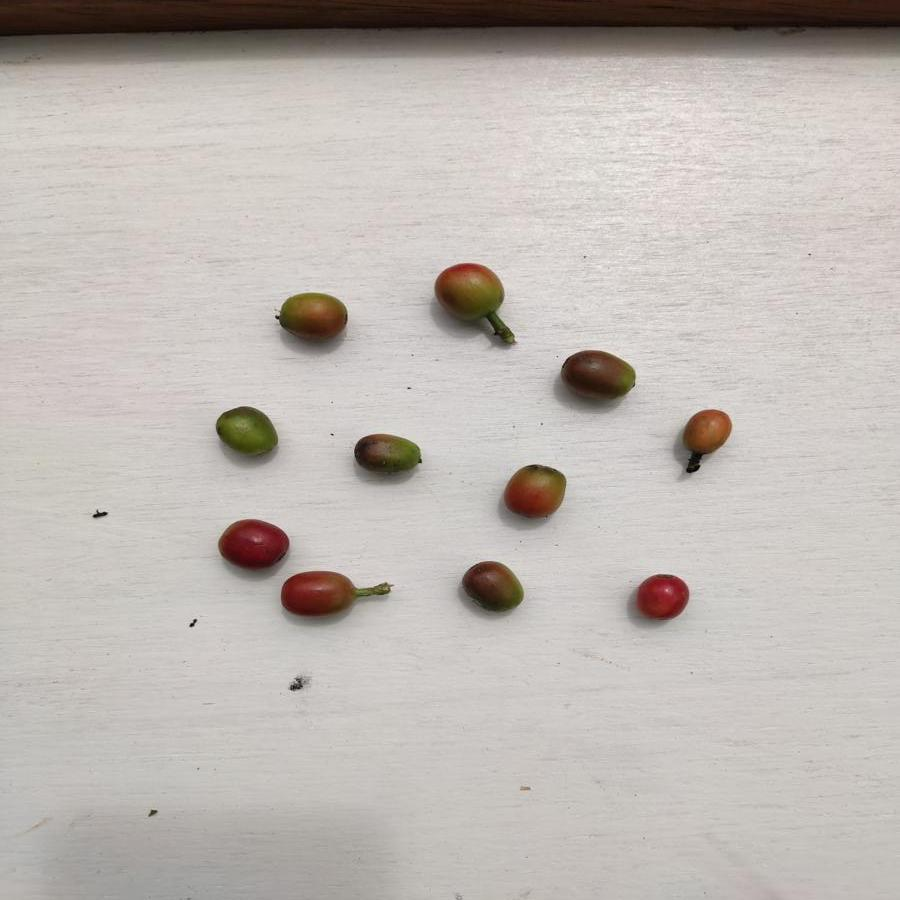Maduro: (214, 520, 290, 565), (632, 573, 695, 622)
Pinton: (432, 260, 508, 333), (557, 350, 640, 401), (457, 555, 527, 615), (273, 290, 350, 344), (213, 404, 284, 461), (497, 461, 565, 520), (280, 569, 361, 618), (346, 430, 427, 477), (677, 406, 736, 459)
